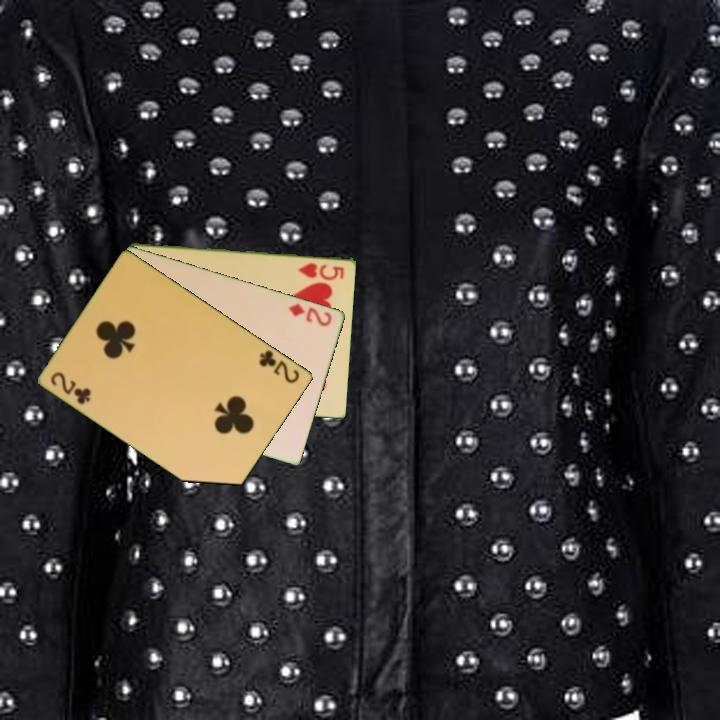2c: (256, 346, 303, 386), (47, 368, 94, 407)
2d: (285, 299, 335, 329)
5h: (295, 259, 347, 282)
